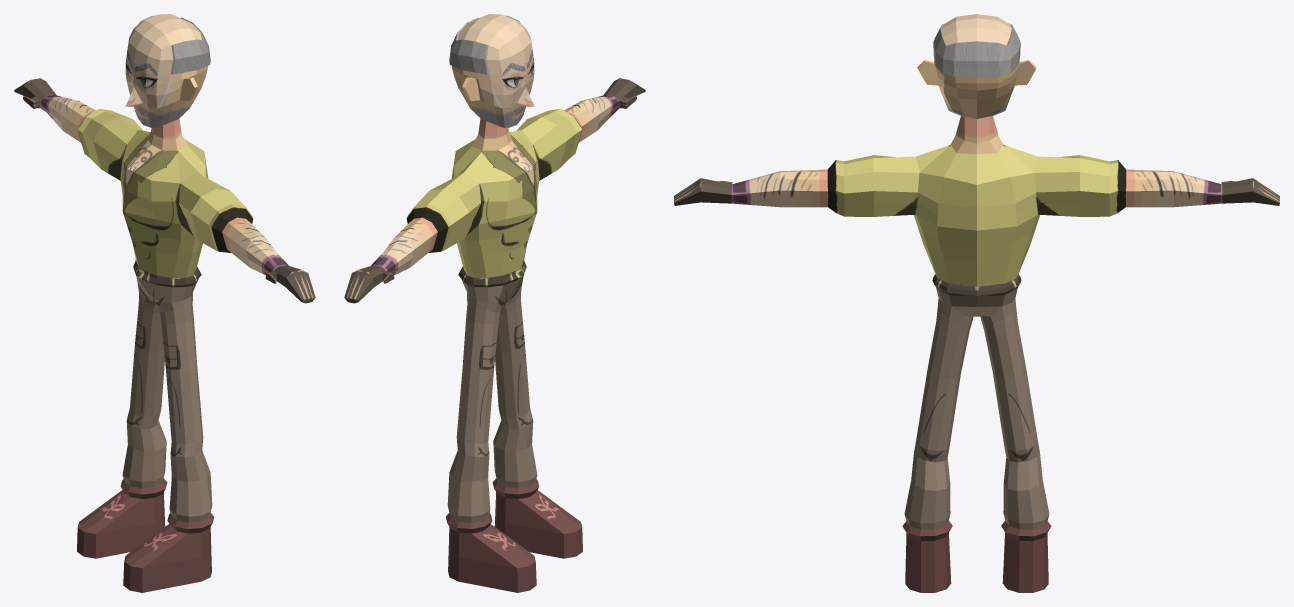
File: BossCaçadorVersao4 (5).fbx
The picture shows the model from 3 angles, left to right: view 1: azimuth 30°, elevation 25°; view 2: azimuth 150°, elevation 25°; view 3: azimuth 270°, elevation 25°; orthographic projection. The views are drawn at different scales.
Visible parts, largest first — view 1: Cylinder; view 2: Cylinder; view 3: Cylinder.
Part boxes in pixels (left/top/right/bottom): Cylinder: left=14, top=14, right=315, bottom=592; Cylinder: left=344, top=14, right=645, bottom=592; Cylinder: left=674, top=14, right=1279, bottom=592.
Size of the model in its own units: 90.39 by 441 by 429.
Materials: 1 (1 with a texture image).
